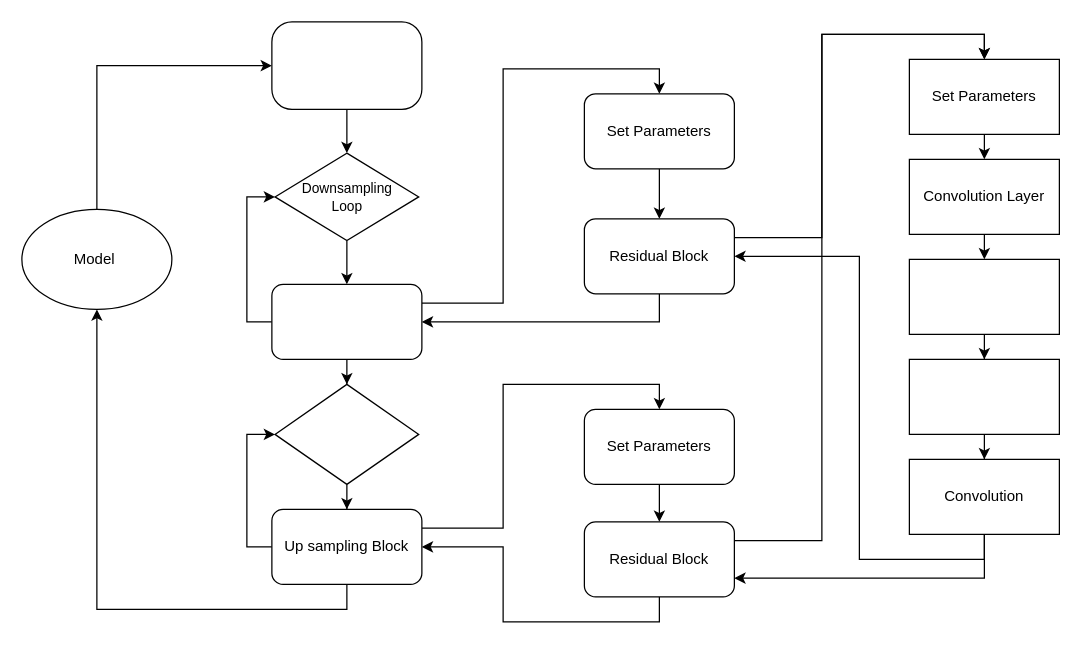
The diagram is 1081 pixels wide and 654 high, and some of its shapes have lost their labels. Here are the shapes that lost their labels. From the top down, the centre of each, then its label:
At [346,65]: "Set Parameters for the Network".
At [983,296]: "Activation".
At [346,321]: "Down sampling Block".
At [983,396]: "Dropout".
At [346,433]: "Upsampling Loop".
